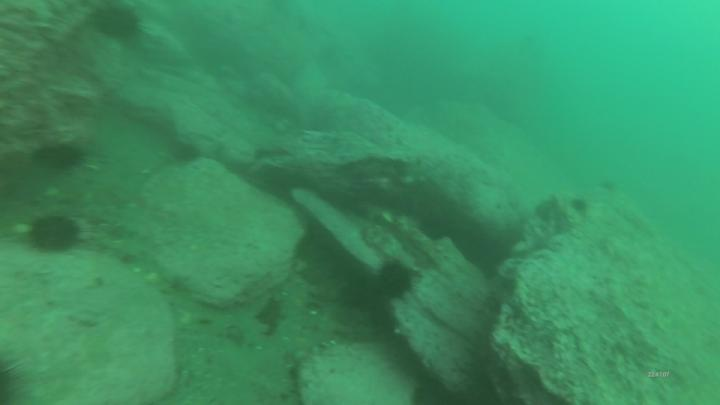echinus: (88, 1, 147, 46), (25, 214, 84, 257), (372, 255, 420, 304), (1, 351, 35, 405), (46, 141, 89, 174), (167, 136, 206, 166), (570, 197, 591, 216)
